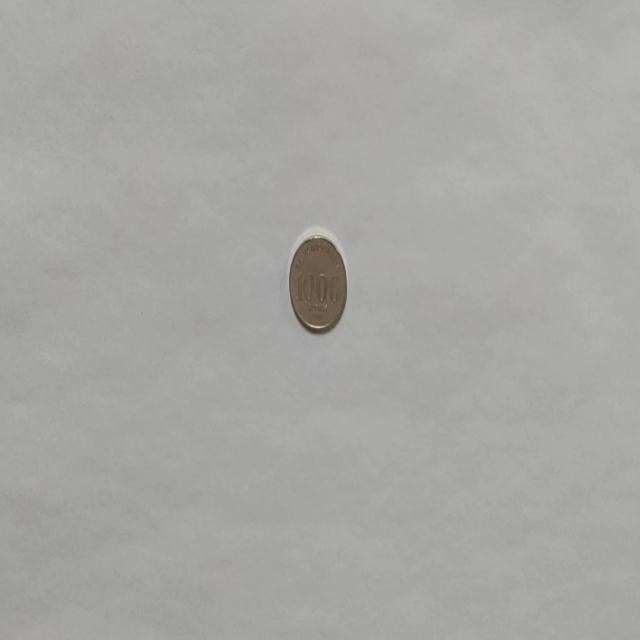seribu rupiah koin: (286, 230, 348, 334)
